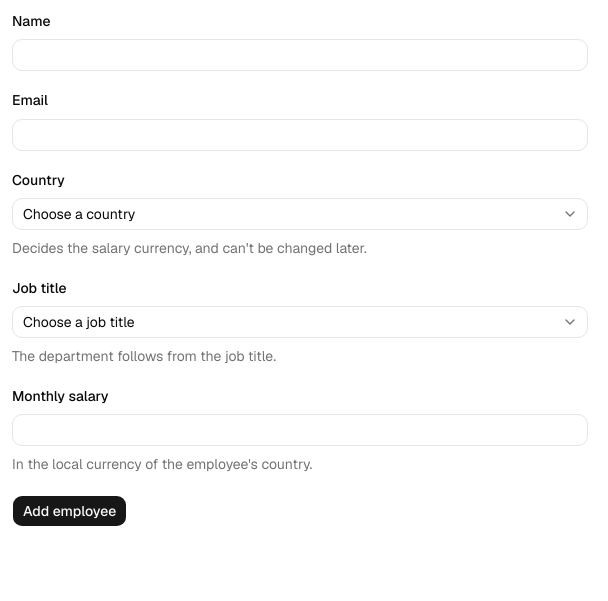
it: EmployeeForm when adding an employee › shows a problem with the whole form
This screenshot has width=608, height=601.
Type "Grace Hopper" into the field labelled "Name" at (300, 55), box [12,39,588,71]
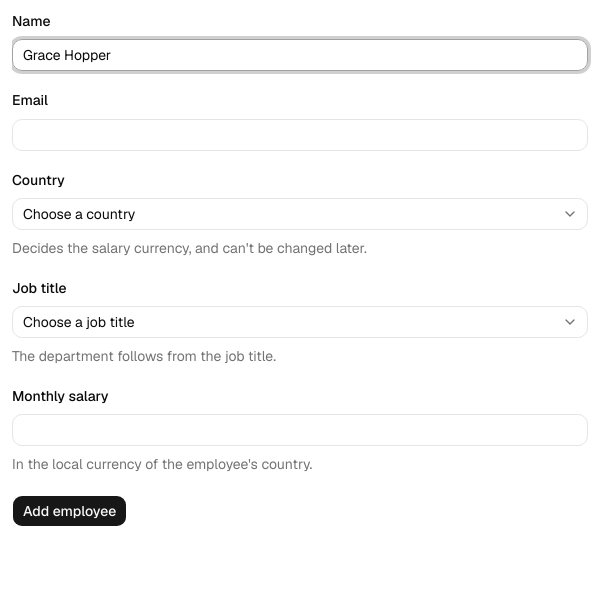
Type "grace@example.com" into the field labelled "Email" at (300, 134), box [12,118,588,150]
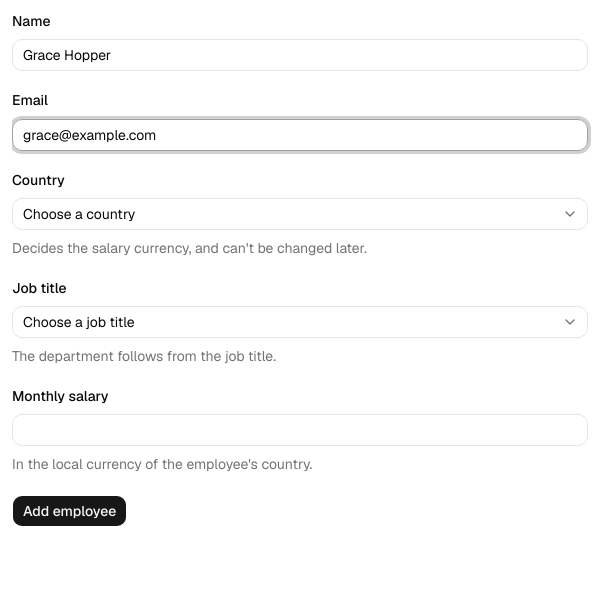
Select "Germany (EUR)" in the dropdown labelled "Country" at (300, 214), box [12,198,588,230]
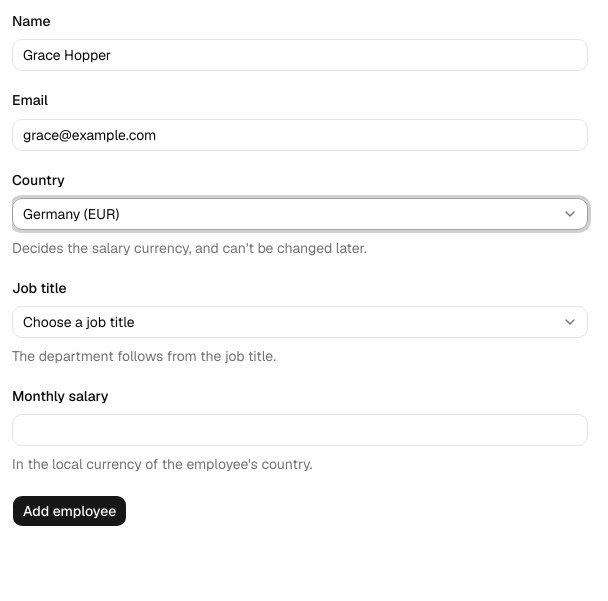
Select "Accountant (Finance)" in the dropdown labelled "Job title" at (300, 322), box [12,306,588,338]
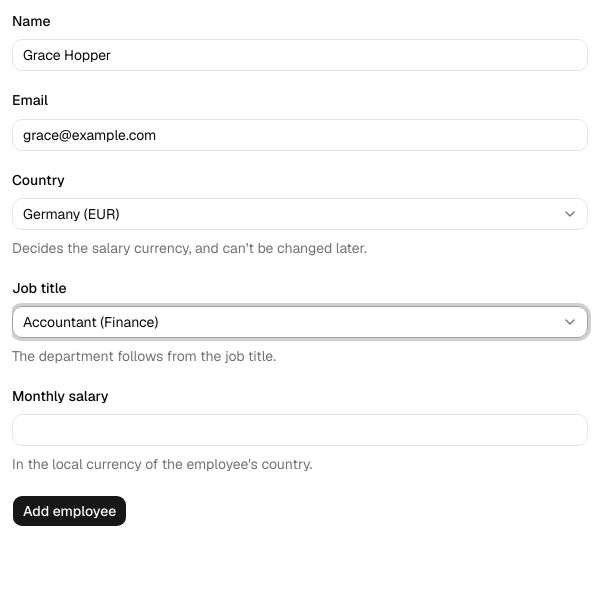
Type "5200.50" into the field labelled "Monthly salary" at (300, 430), box [12,414,588,446]
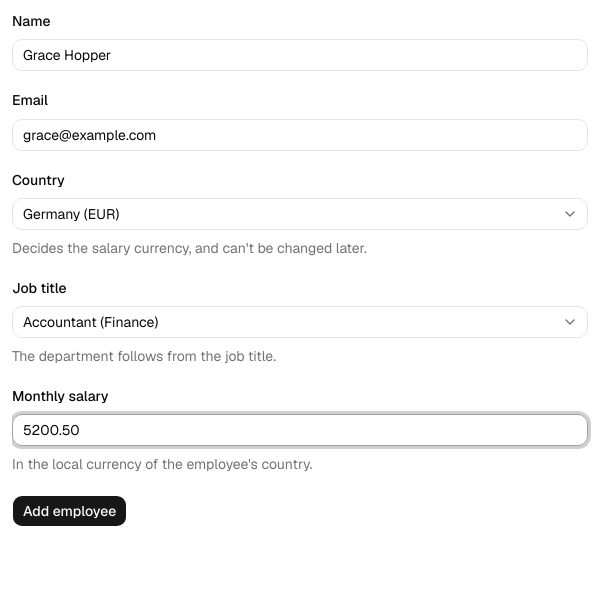
Click the button "Add employee" at (70, 511), box [12,495,127,527]
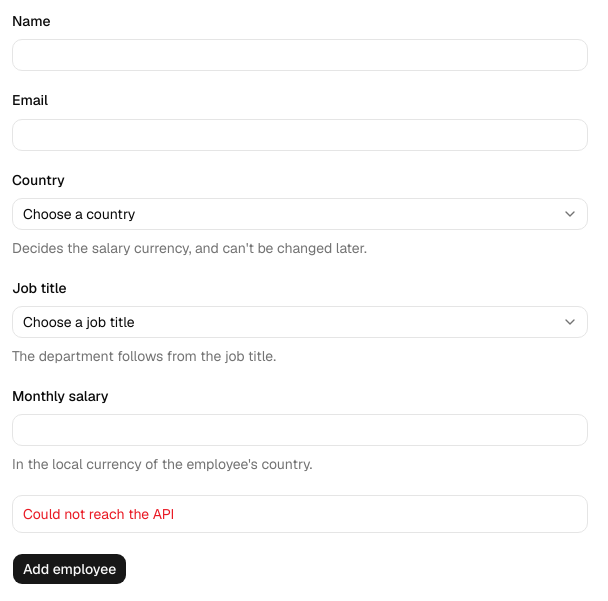
expect the message reads "Could not reach the API": met, box [23,505,174,523]
